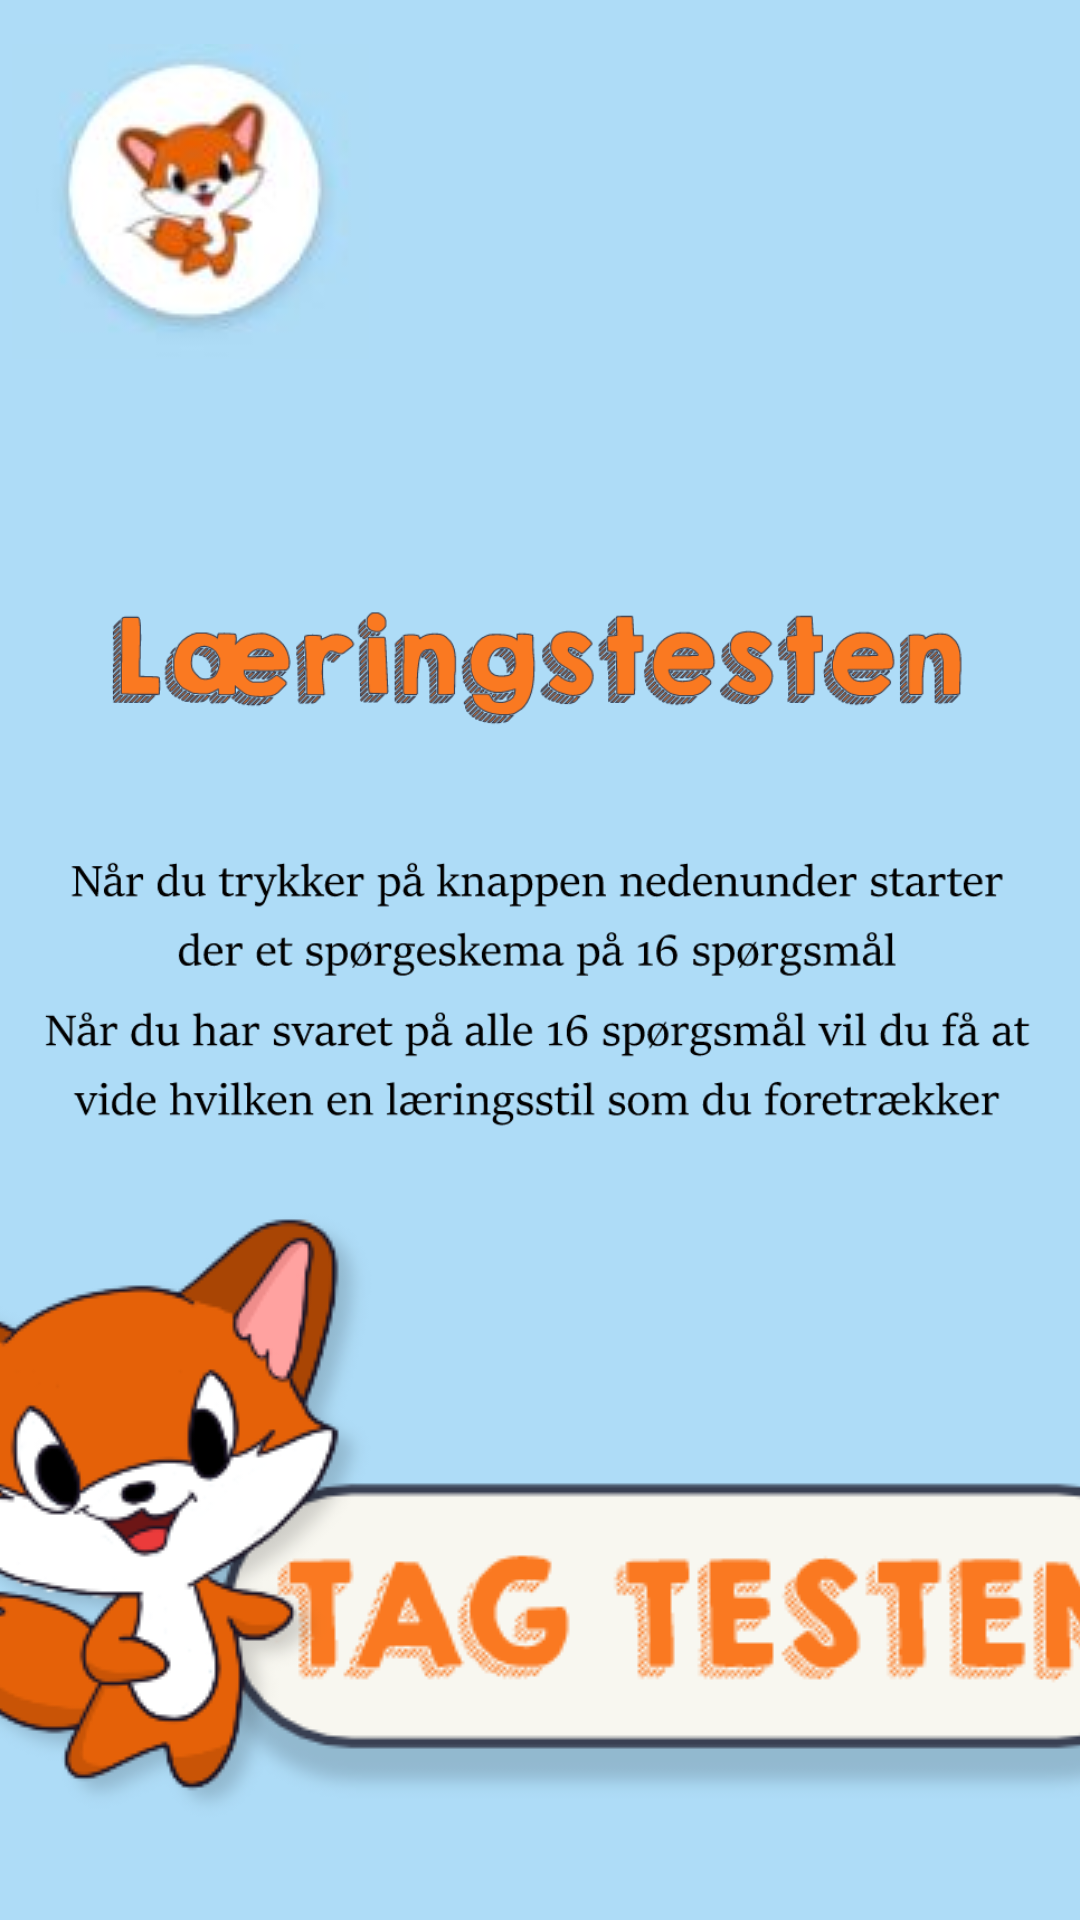

Icon click points for this 1080 × 1920 phone screenshot, format (x=x, y=y):
dinprofil: (x=195, y=194)
